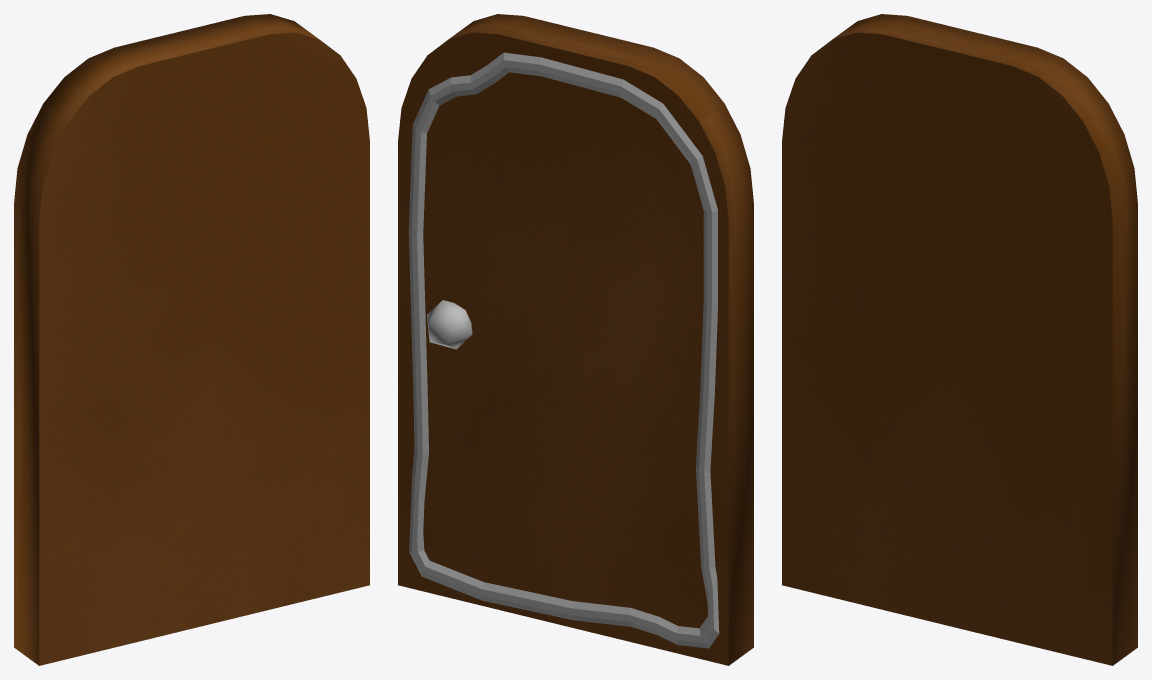
The model's file is Door.gltf.glb.
3 views of the same model, side by side, from view 1: azimuth 30°, elevation 25°; view 2: azimuth 150°, elevation 25°; view 3: azimuth 330°, elevation 25° (orthographic).
Visible parts, largest first — view 1: Door; view 2: Door; view 3: Door.
Part boxes in pixels (box(x1,y1,x2,y2)): Door: box(14, 14, 369, 665); Door: box(398, 14, 753, 665); Door: box(782, 14, 1137, 665).
Size of what is drawn, in the model's own units: 1.6 by 2.66 by 0.3313.
Materials: 2 (1 with a texture image).
